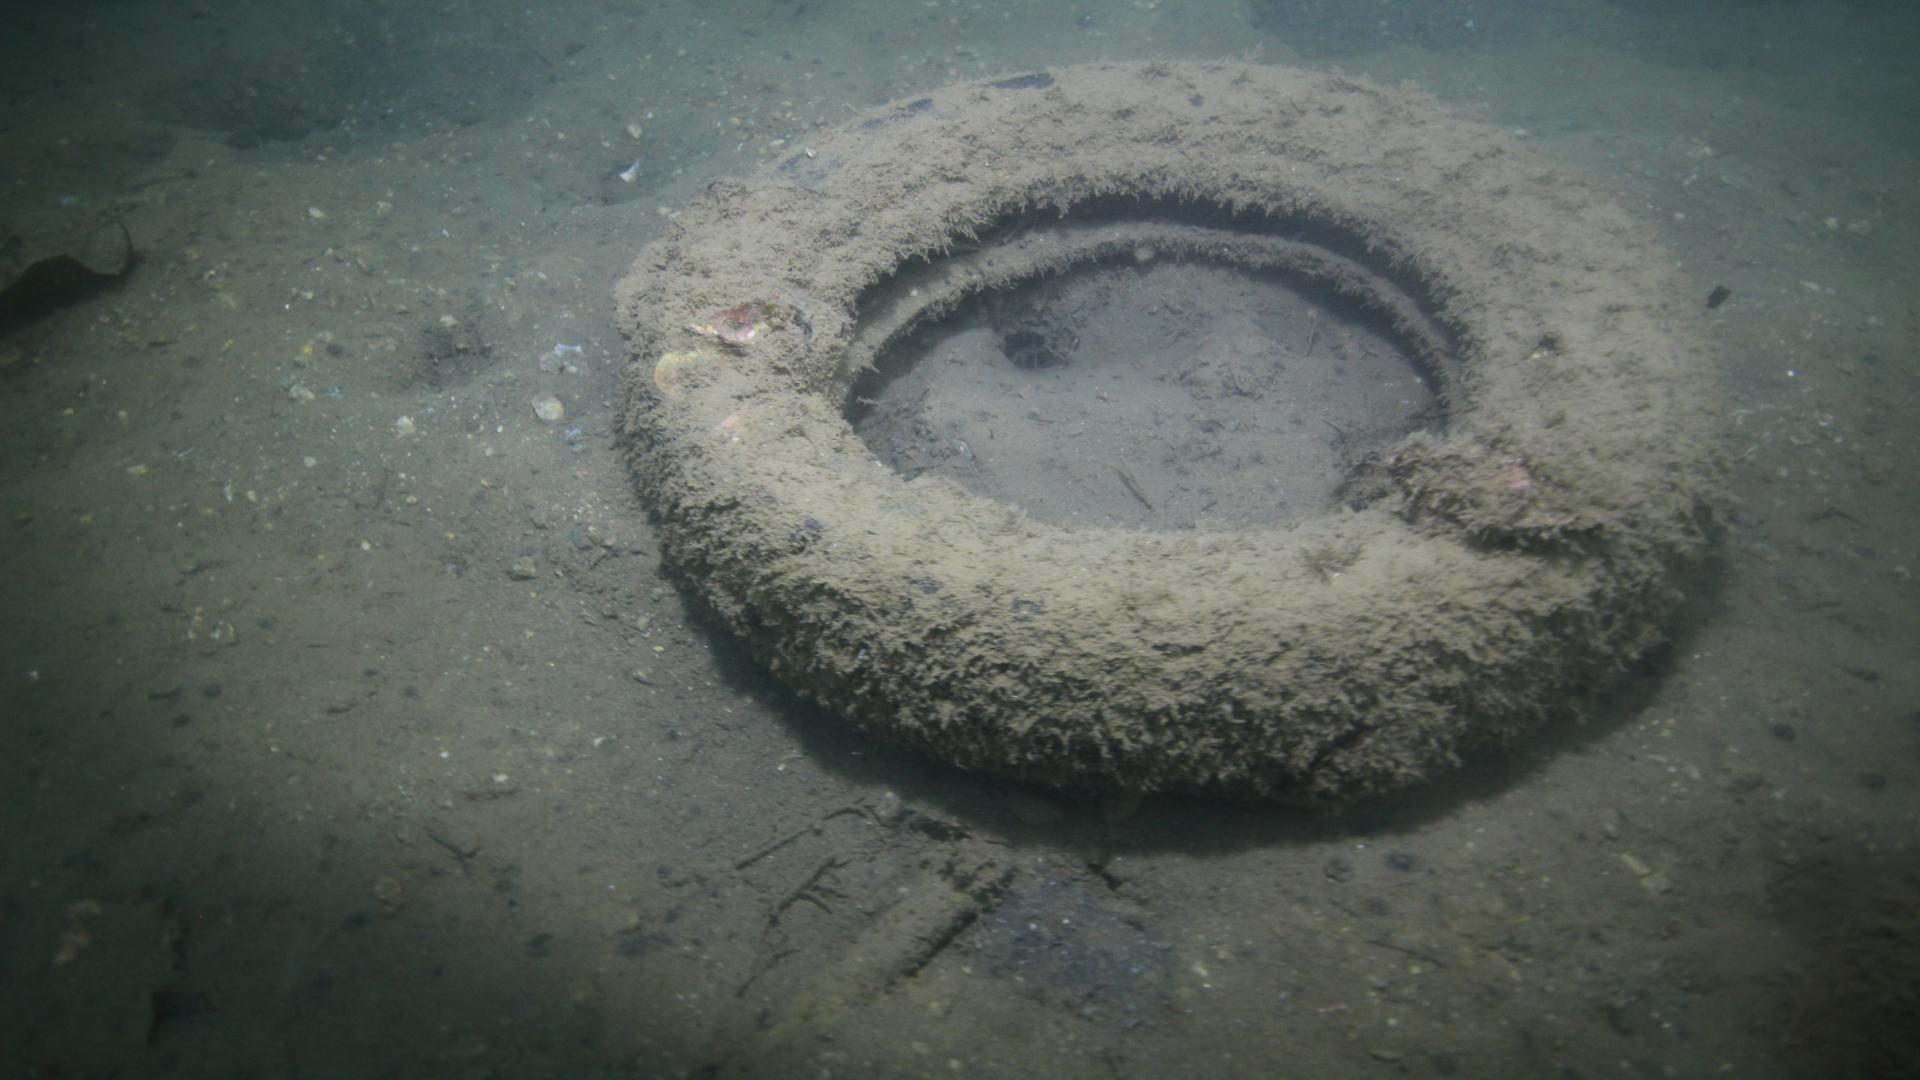tire: (622, 57, 1720, 811)
